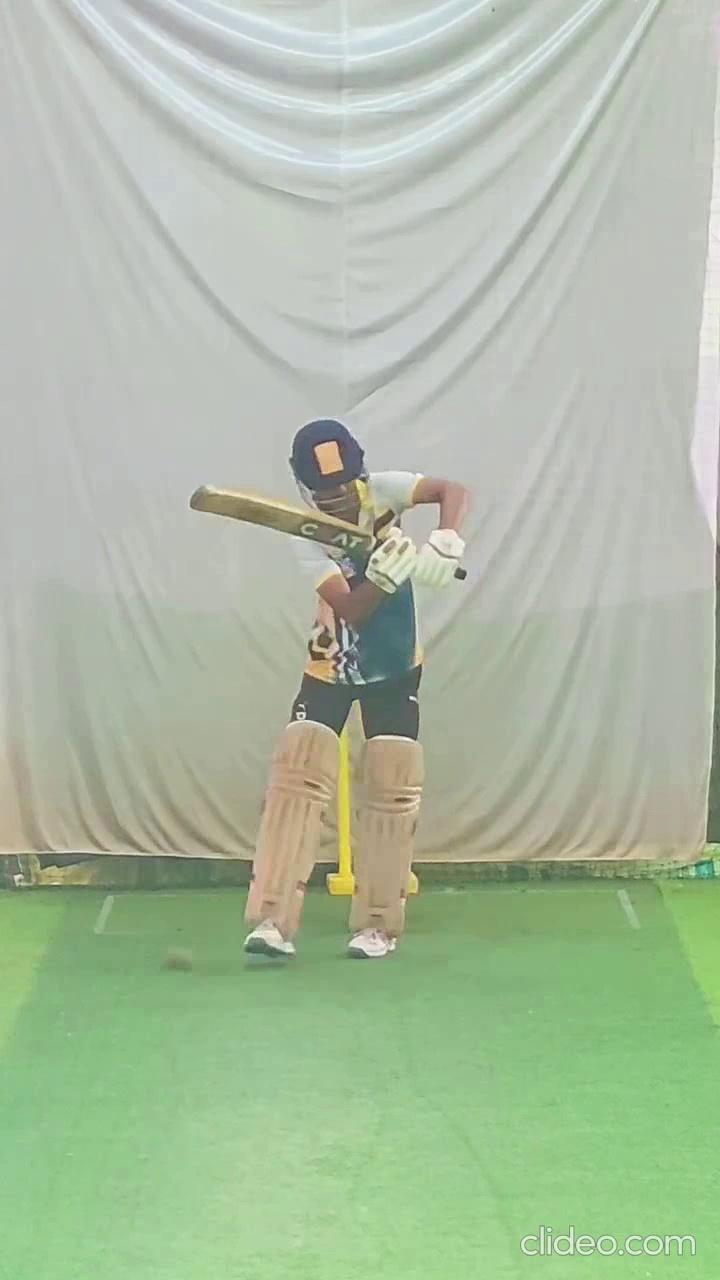bat: (182, 472, 378, 567)
